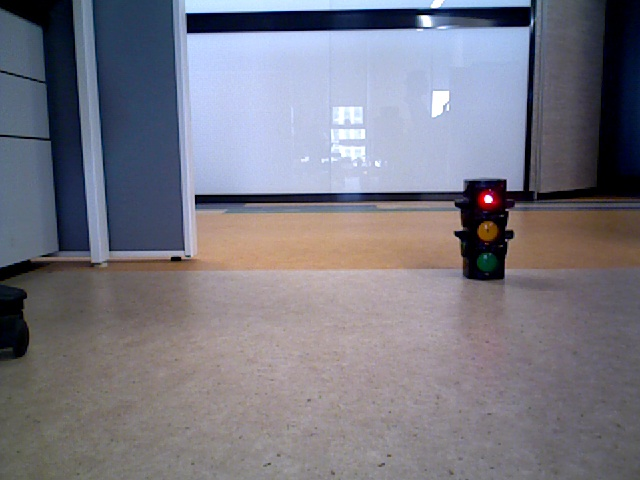red: (464, 181, 502, 280)
